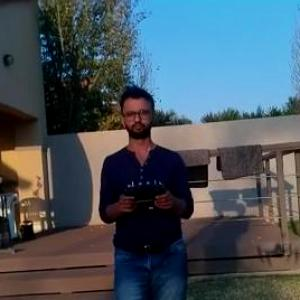follow: (93, 82, 198, 299)
